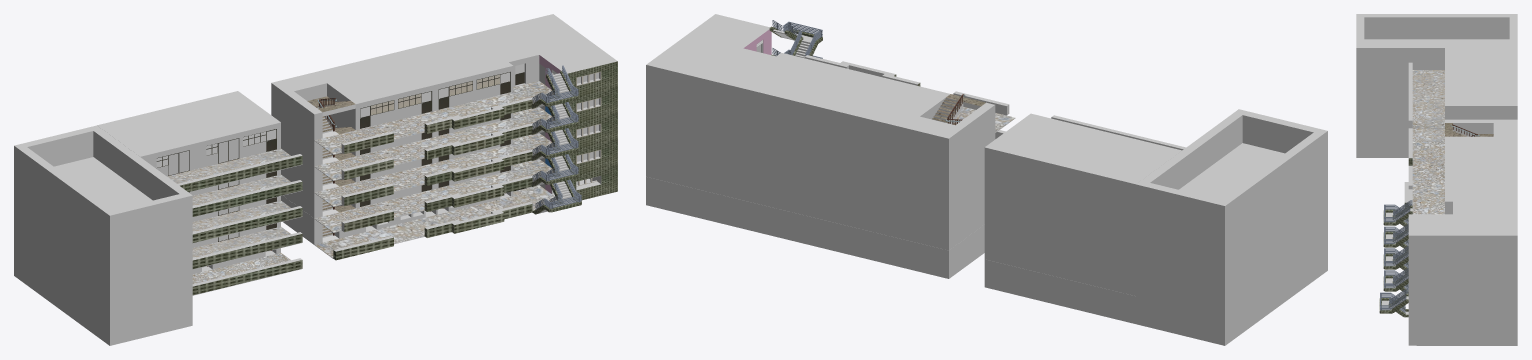
The model's file is A1_Building_V4.fbx.
3 views of the same model, side by side, from view 1: azimuth 30°, elevation 25°; view 2: azimuth 150°, elevation 25°; view 3: azimuth 270°, elevation 25° (orthographic). The views are drawn at different scales.
Parts seen in each view (by area): view 1: Cube.104; view 2: Cube.104; view 3: Cube.104.
Boxes of the visible parts, bbox=[...] form: Cube.104: bbox=[14, 14, 617, 345]; Cube.104: bbox=[646, 14, 1327, 345]; Cube.104: bbox=[1356, 14, 1517, 345].
Size of the model in its own units: 6500 by 1602 by 2000.
